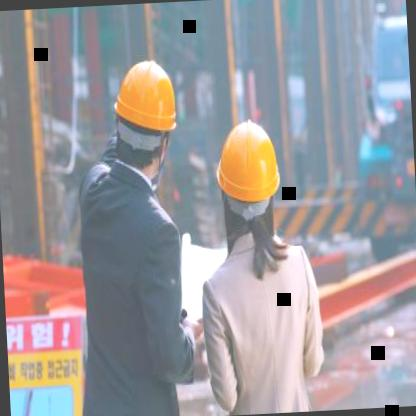helmet: (211, 104, 285, 246), (106, 45, 180, 180)
